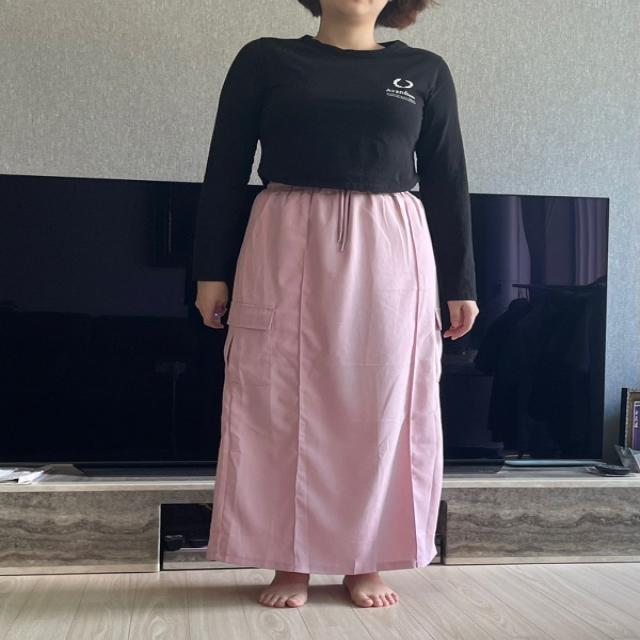longsleeve: (194, 34, 478, 302)
skirt: (207, 187, 441, 577)
